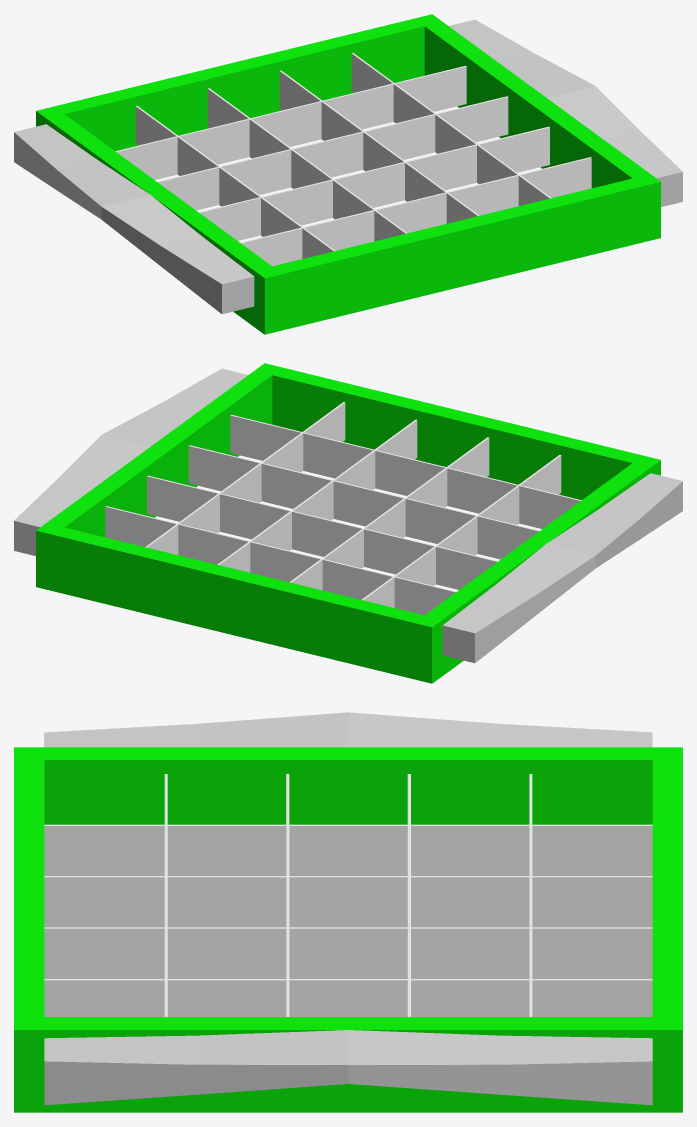
Rendered from Slicer.obj.
3 renders of one model, top to bottom at view 1: azimuth 30°, elevation 25°; view 2: azimuth 150°, elevation 25°; view 3: azimuth 270°, elevation 25°, orthographic. The views are drawn at different scales.
Visible parts, largest first — view 1: Slicer_SlicerMesh_BoardMaterial, Slicer_SlicerMesh_BladeMaterial, Slicer_SlicerMesh_HandleMaterial; view 2: Slicer_SlicerMesh_BoardMaterial, Slicer_SlicerMesh_BladeMaterial, Slicer_SlicerMesh_HandleMaterial; view 3: Slicer_SlicerMesh_BladeMaterial, Slicer_SlicerMesh_BoardMaterial, Slicer_SlicerMesh_HandleMaterial.
Boxes of the visible parts, left/top/right/bottom form: Slicer_SlicerMesh_BoardMaterial: left=36, top=14, right=660, bottom=334; Slicer_SlicerMesh_BladeMaterial: left=115, top=53, right=591, bottom=266; Slicer_SlicerMesh_HandleMaterial: left=14, top=19, right=682, bottom=314; Slicer_SlicerMesh_BoardMaterial: left=36, top=363, right=660, bottom=683; Slicer_SlicerMesh_BladeMaterial: left=105, top=402, right=581, bottom=615; Slicer_SlicerMesh_HandleMaterial: left=14, top=368, right=682, bottom=663; Slicer_SlicerMesh_BladeMaterial: left=44, top=774, right=652, bottom=1016; Slicer_SlicerMesh_BoardMaterial: left=14, top=747, right=682, bottom=1112; Slicer_SlicerMesh_HandleMaterial: left=44, top=712, right=652, bottom=1105.
Bounding box in the file's own units: 1.37 × 0.15 × 1.1.
